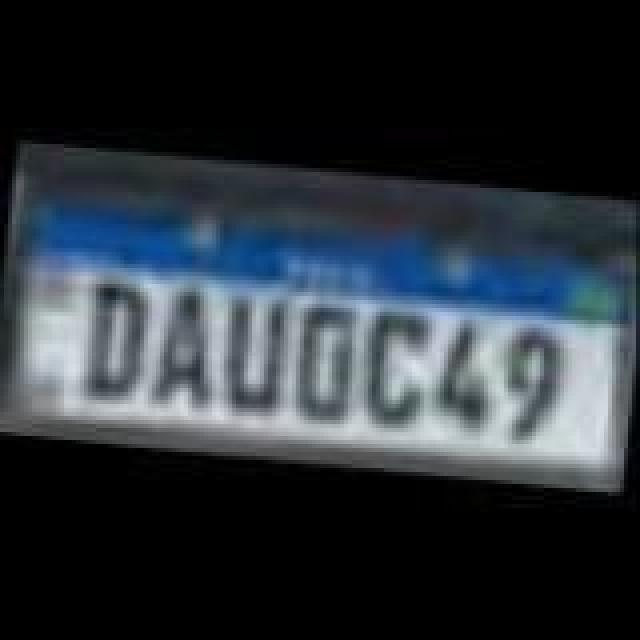4: (430, 314, 502, 434)
9: (496, 318, 572, 450)
A: (152, 288, 220, 412)
C: (360, 302, 436, 430)
D: (76, 272, 152, 400), (288, 300, 364, 424)
U: (214, 288, 294, 420)
